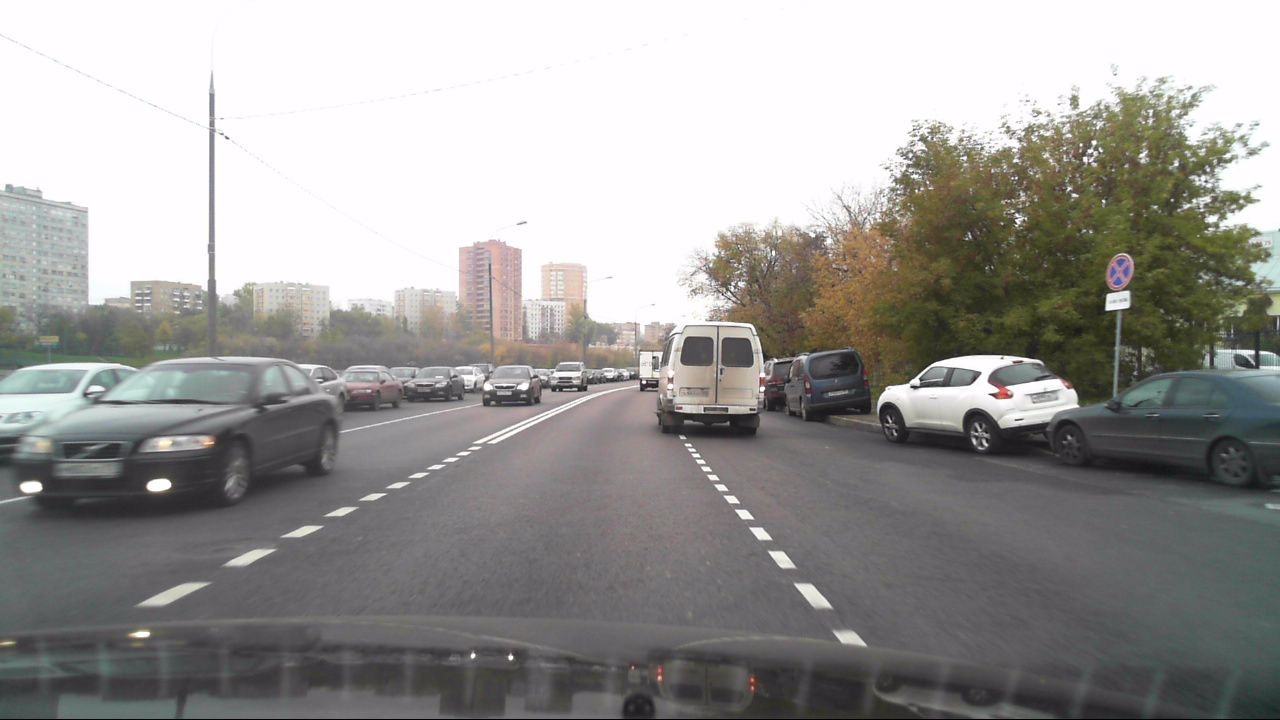No Parking: (1106, 253, 1134, 291)
